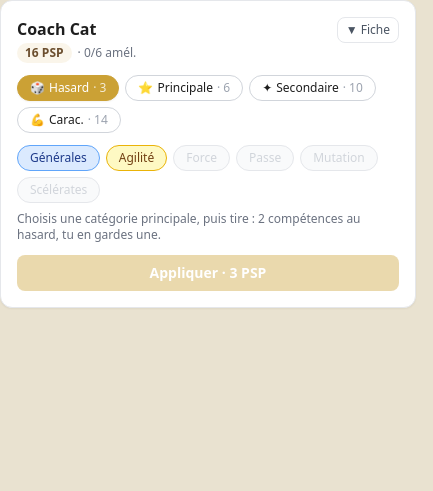
it: AdvancementEditor › groupe les compétences par catégorie et prévisualise la description au survol
Expected: the text "Coach Cat" is shown, [17,18,96,40]
Step 1. Click the button with test id "level-up-type-primary-cat1" → (184,88), box [125,75,243,101]
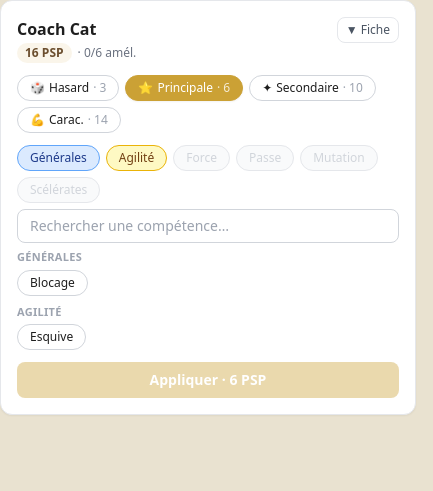
Expected: the button "Agilité" is shown, [106,145,167,171]
Result: the button with test id "level-up-skill-dodge-cat1" is shown
Step 2. Hover over the button with test id "level-up-skill-dodge-cat1" → (52,337), box [17,324,86,350]
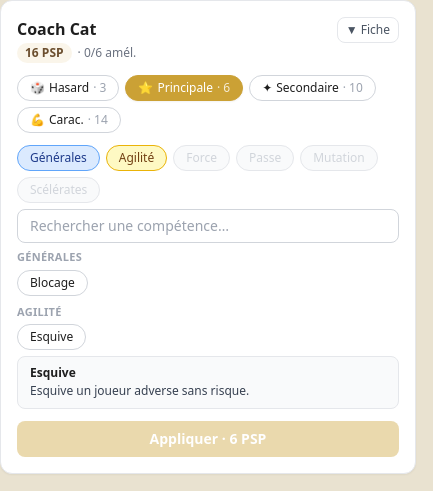
Result: the element with test id "level-up-skill-desc-cat1" shows "Esquive un joueur adverse" at [30,382,249,399]
